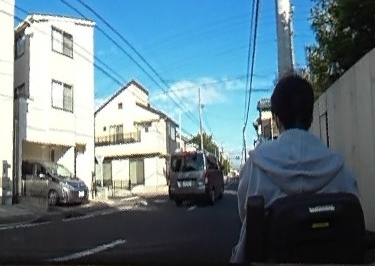person: (238, 74, 359, 249)
